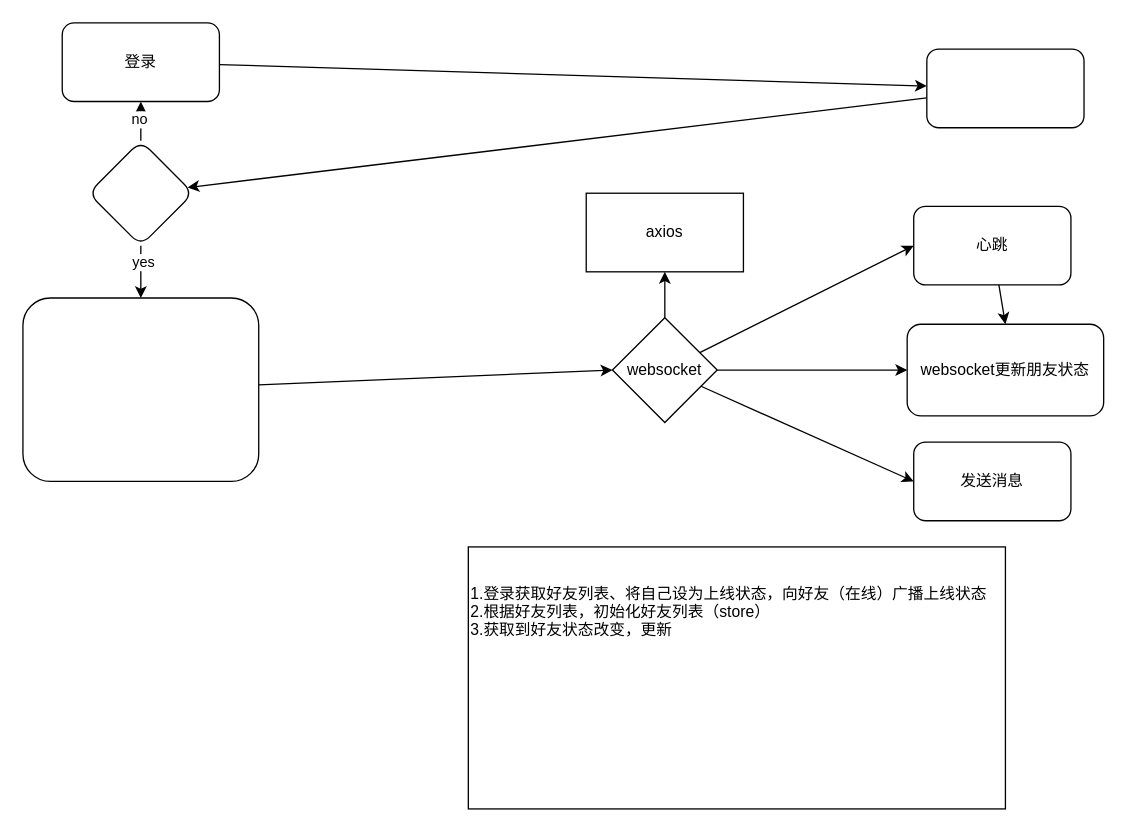
Image size: 1127x832. Some labels were removed from this diagram. The shapes that lost their labels are listed below. From the top down, each one's centre as x and y in pixels, then its label:
At (1005,88): "验证".
At (140,193): "成功".
At (140,389): "1、连接websocket 2、axios获取朋友信息包括在线状态，之拿一次，初始化".
